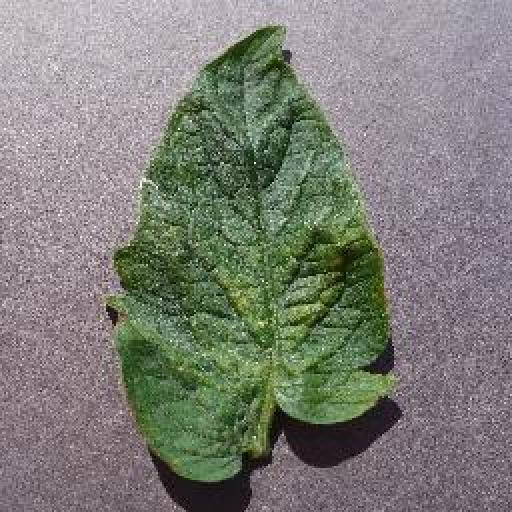Spider Mites: (112, 23, 393, 485)
